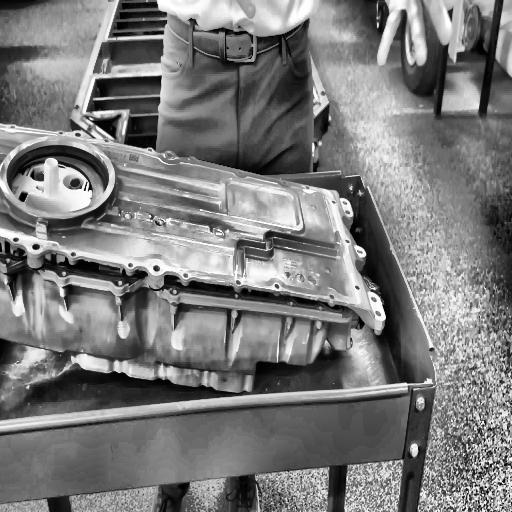bms_unit: (0, 110, 390, 392)
